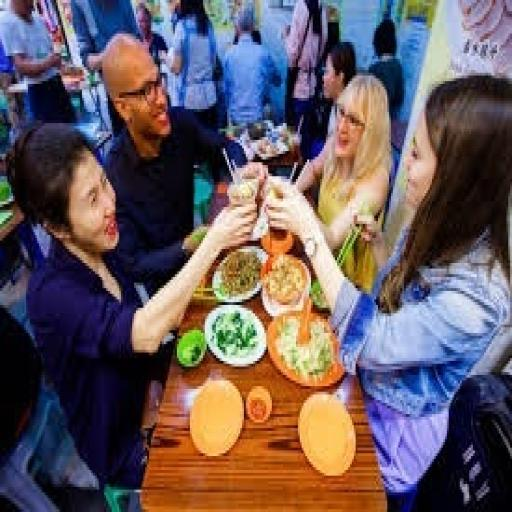eating: (6, 20, 508, 500)
